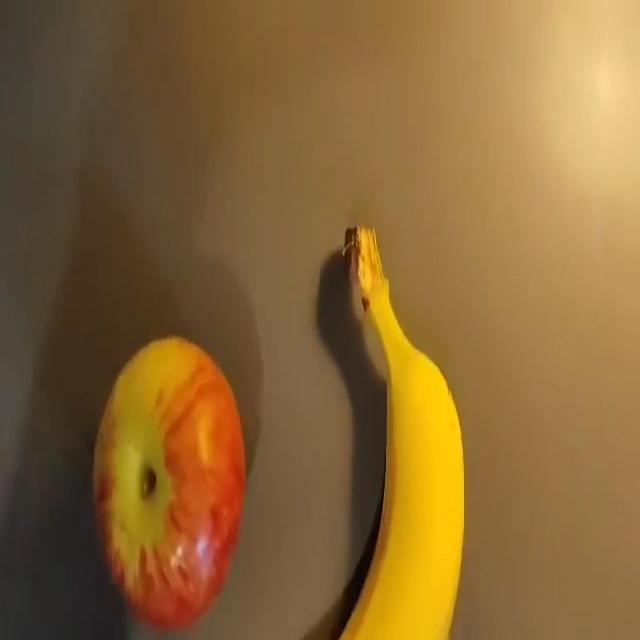Apple: (88, 337, 252, 626)
Banana: (340, 225, 465, 640)
